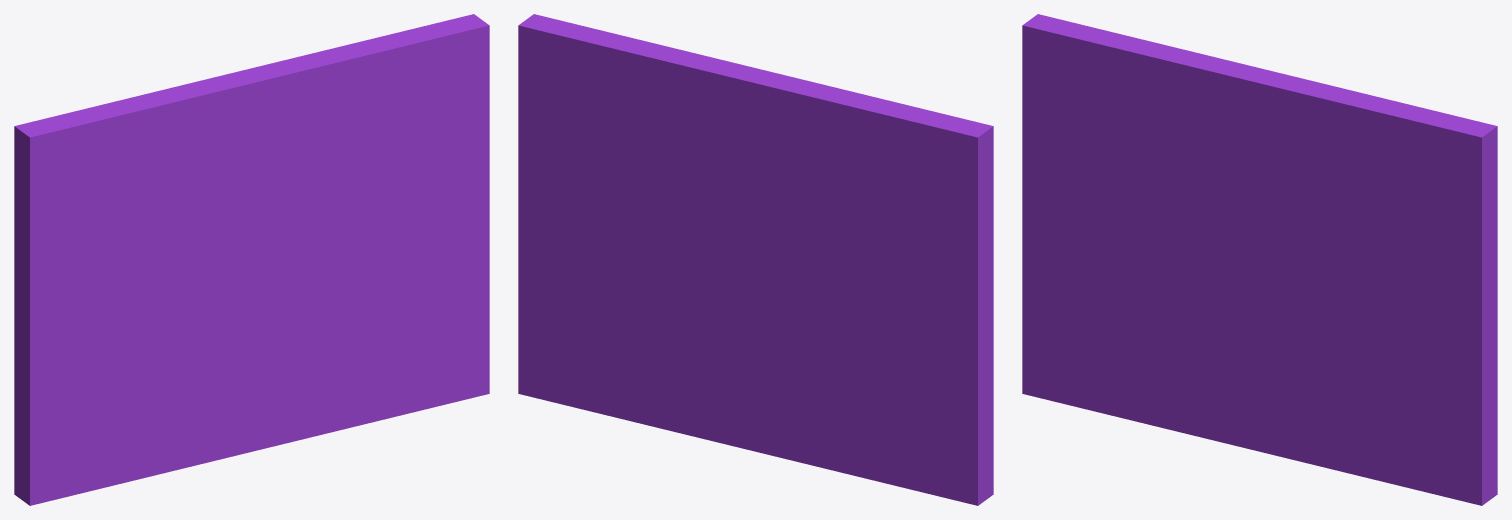
The model's file is Barrier_213_chunks.fbx.
3 renders of one model, left to right at view 1: azimuth 30°, elevation 25°; view 2: azimuth 150°, elevation 25°; view 3: azimuth 330°, elevation 25°, orthographic.
Visible parts, largest first — view 1: Barrier_213_0, Barrier_213_1, Barrier_213_3, Barrier_213_5, Barrier_213_6, Barrier_213_4; view 2: Barrier_213_0, Barrier_213_1, Barrier_213_2, Barrier_213_3, Barrier_213_5, Barrier_213_6, Barrier_213_4; view 3: Barrier_213_1, Barrier_213_0, Barrier_213_3, Barrier_213_5, Barrier_213_6, Barrier_213_4.
Boxes of the visible parts, bbox=[...] form: Barrier_213_0: bbox=[14, 67, 273, 460]; Barrier_213_1: bbox=[254, 14, 489, 362]; Barrier_213_3: bbox=[266, 295, 489, 438]; Barrier_213_5: bbox=[19, 352, 228, 505]; Barrier_213_6: bbox=[155, 258, 341, 402]; Barrier_213_4: bbox=[162, 395, 304, 473]; Barrier_213_0: bbox=[738, 67, 993, 458]; Barrier_213_1: bbox=[518, 14, 749, 379]; Barrier_213_2: bbox=[695, 252, 986, 505]; Barrier_213_3: bbox=[518, 299, 755, 445]; Barrier_213_5: bbox=[753, 367, 993, 501]; Barrier_213_6: bbox=[694, 298, 768, 376]; Barrier_213_4: bbox=[733, 421, 792, 460]; Barrier_213_1: bbox=[1254, 72, 1497, 479]; Barrier_213_0: bbox=[1022, 14, 1277, 348]; Barrier_213_3: bbox=[1258, 335, 1497, 505]; Barrier_213_5: bbox=[1022, 301, 1220, 425]; Barrier_213_6: bbox=[1147, 259, 1334, 397]; Barrier_213_4: bbox=[1154, 387, 1296, 460].
Size of the model in its own units: 376 by 288 by 22.1.
